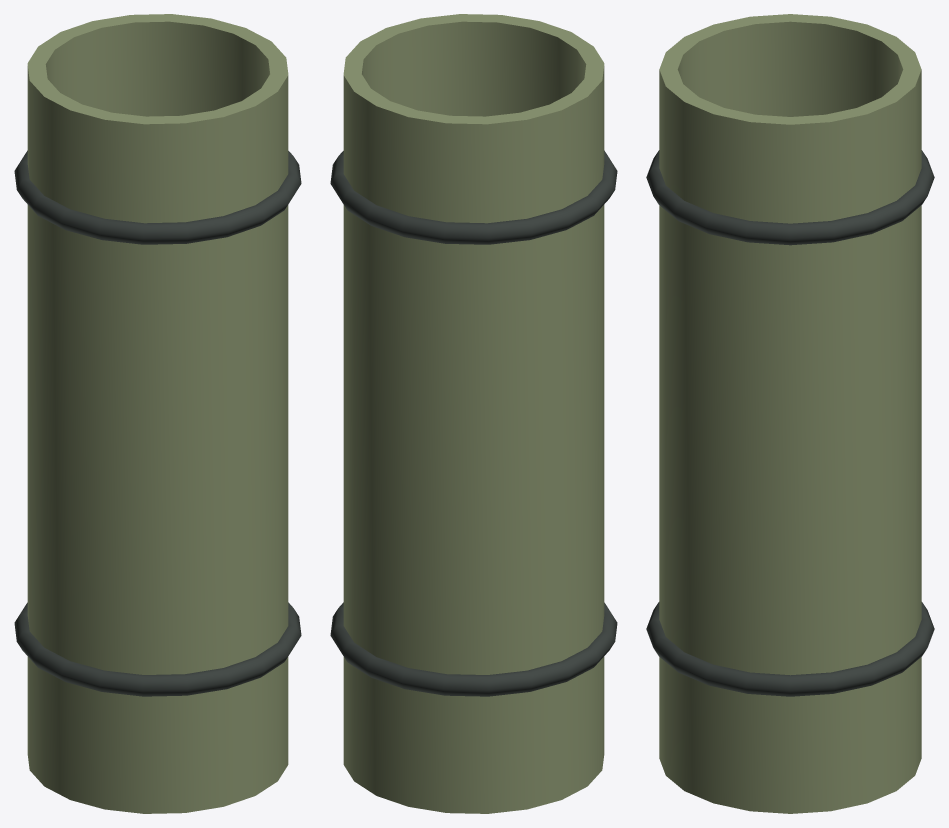
Rendered from backpacks-and-expedition-storage-sleeping-mat-roll-d88e29b3__21092.glb.
3 renders of one model, left to right at view 1: azimuth 30°, elevation 25°; view 2: azimuth 150°, elevation 25°; view 3: azimuth 270°, elevation 25°, orthographic.
Visible parts, largest first — view 1: sleeping-mat-roll; view 2: sleeping-mat-roll; view 3: sleeping-mat-roll.
Boxes of the visible parts, x1,y1,x2,y2 form: sleeping-mat-roll: (14,14,301,813); sleeping-mat-roll: (330,14,617,813); sleeping-mat-roll: (646,14,934,813).
Bounding box in the file's own units: 0.22 × 0.58 × 0.22.
